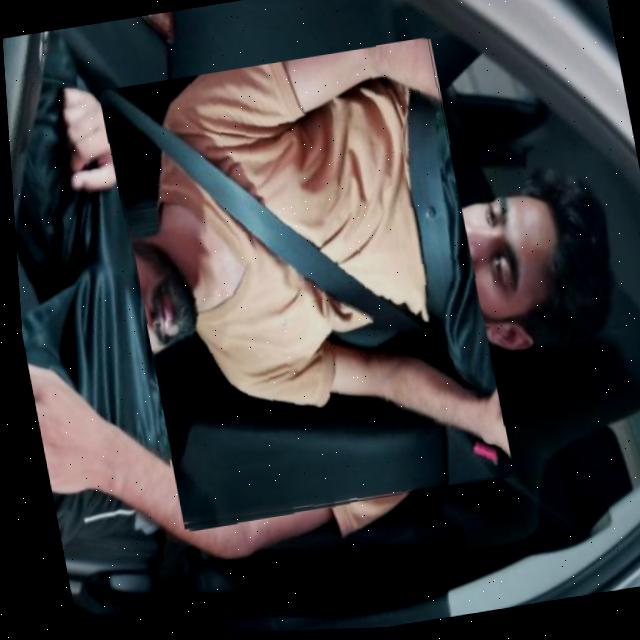seatbelt: (95, 38, 509, 533)
